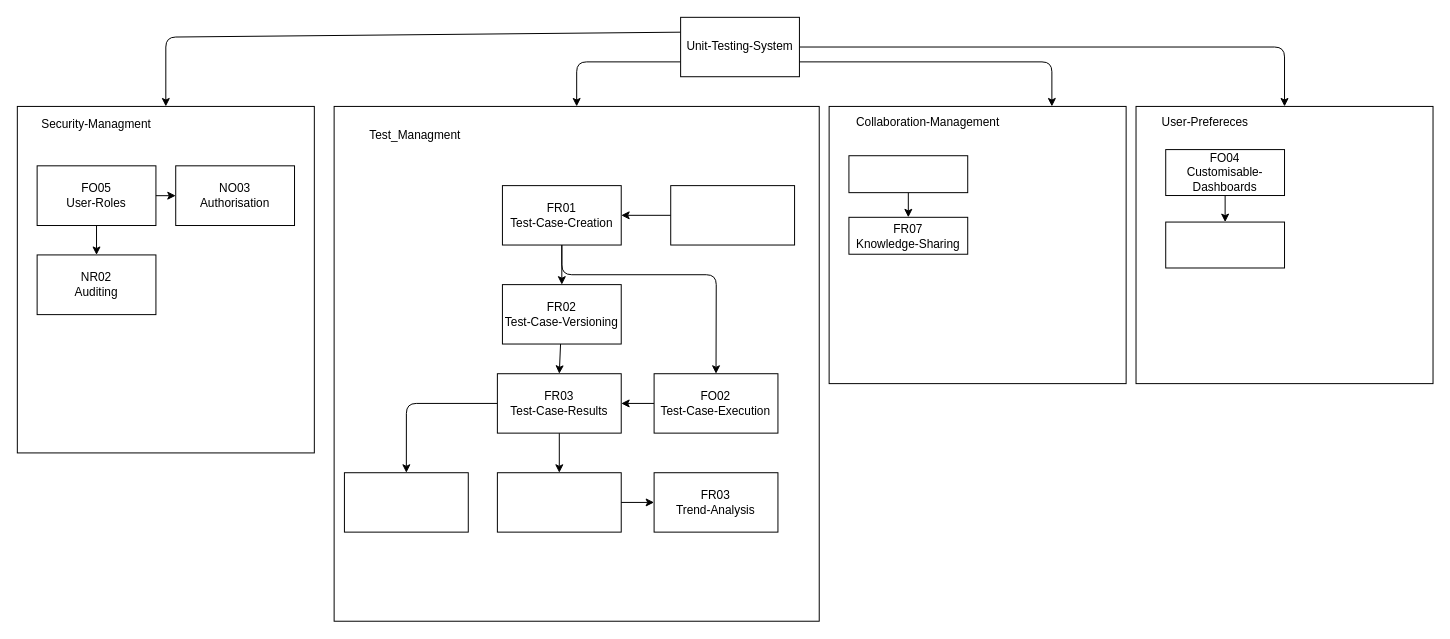
Some shapes in this 1450 by 639 pixel diagram are drawn without their labels. The box of each missing label's shape, as (x1, y1, x2, y2) in pixels:
FO01 AI-Test-Generation: (670, 185, 795, 245)
FR04 Test-Case-Execution-Reports: (496, 472, 621, 532)
FR05 Test-Matrix: (343, 472, 468, 532)
FR06 Collaboration-Tools: (848, 155, 968, 193)
NR04 Accessibility: (1165, 221, 1285, 268)
